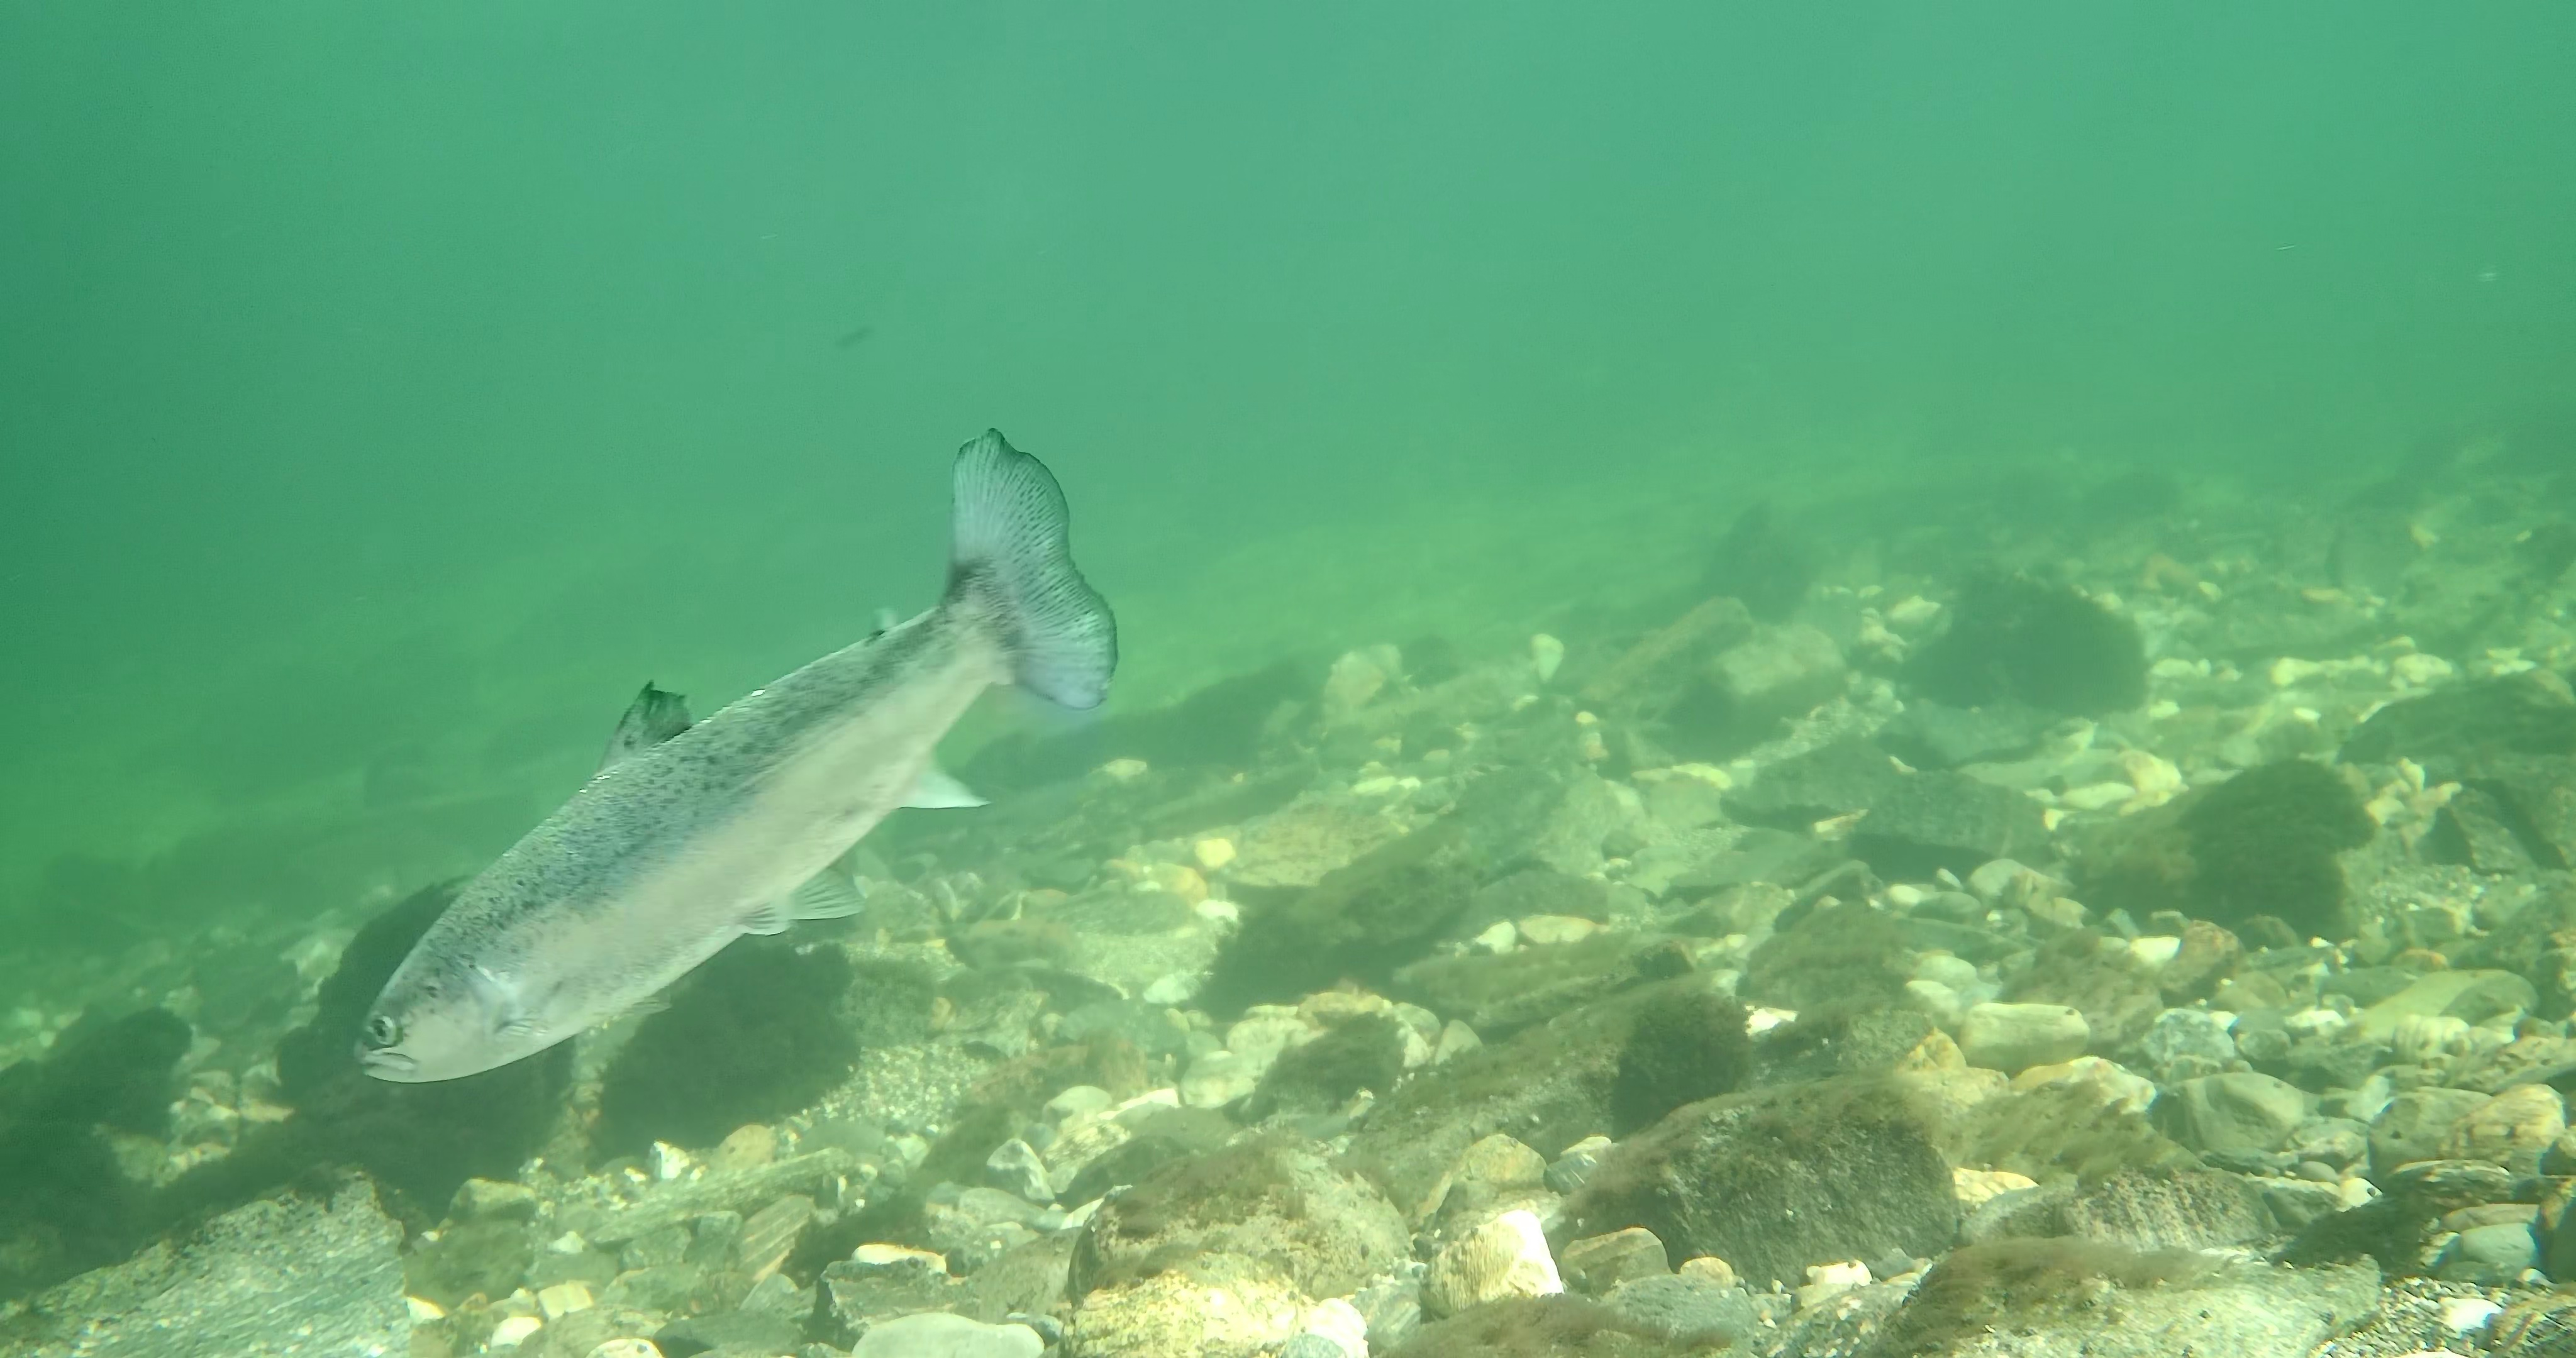salmon: (353, 424, 1123, 1084)
